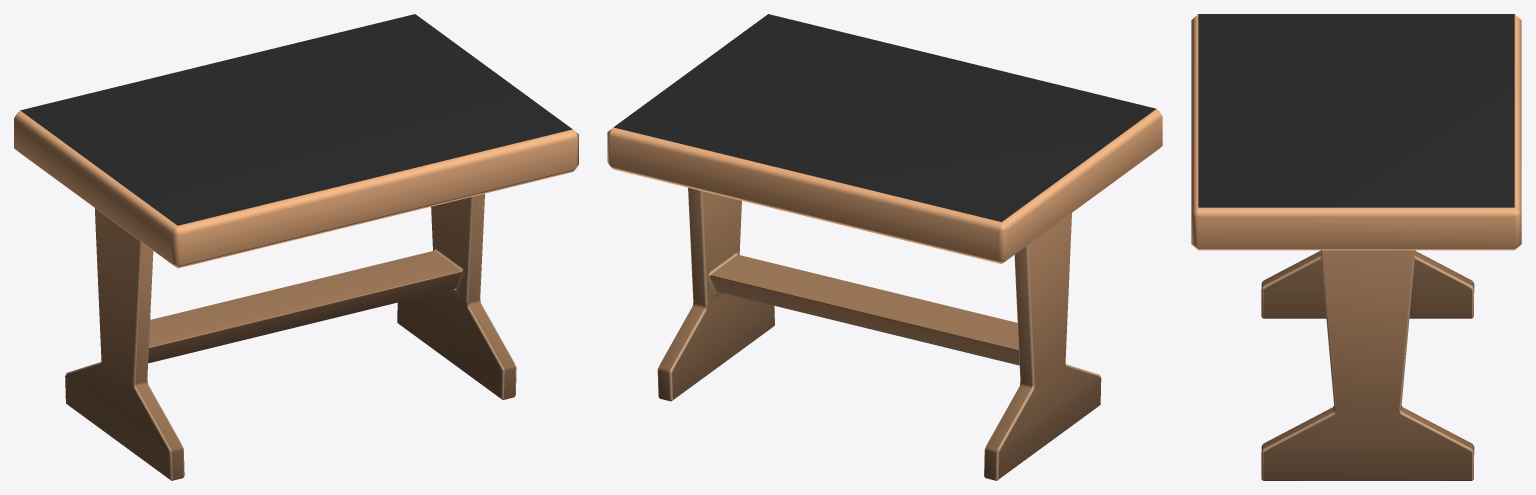
Rendered from art-room-table.glb.
The picture shows the model from 3 angles, left to right: view 1: azimuth 30°, elevation 25°; view 2: azimuth 150°, elevation 25°; view 3: azimuth 270°, elevation 25°; orthographic projection. The views are drawn at different scales.
Parts seen in each view (by area): view 1: table; view 2: table; view 3: table.
Part boxes in pixels (box(x1,y1,x2,y2)): table: box(14, 14, 578, 480); table: box(607, 14, 1162, 480); table: box(1191, 14, 1521, 480).
Size of the model in its own units: 2.14 by 1.44 by 1.5.
Materials: 1 (1 with a texture image).
